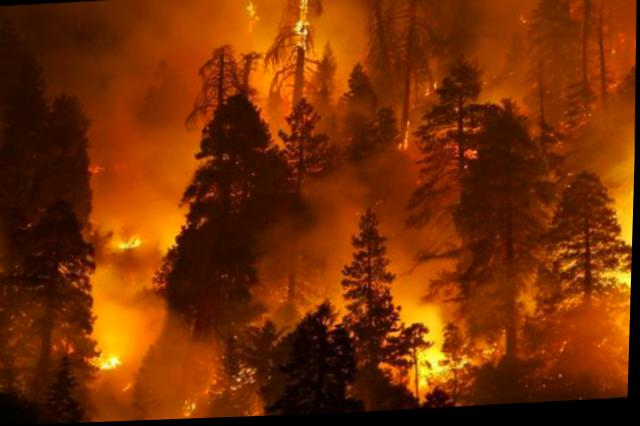fire: (395, 342, 473, 402), (104, 229, 145, 270), (90, 333, 126, 377), (287, 0, 316, 53), (398, 116, 416, 155), (604, 273, 632, 294)
